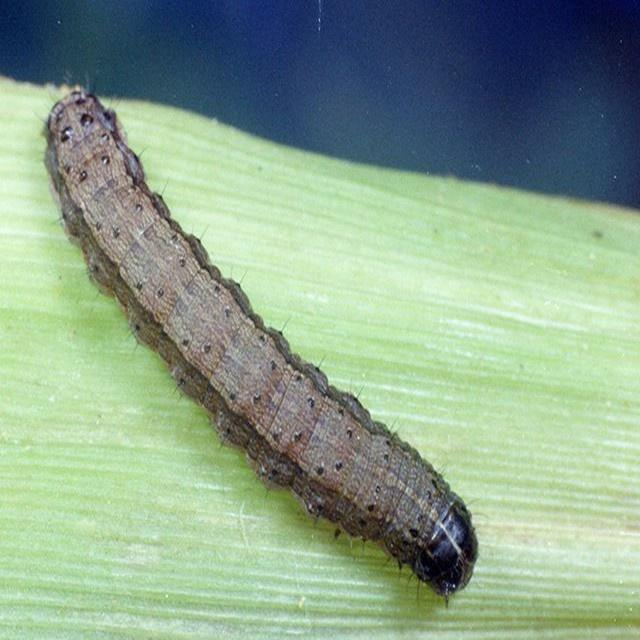gusano_cogollero: (41, 79, 486, 607)
